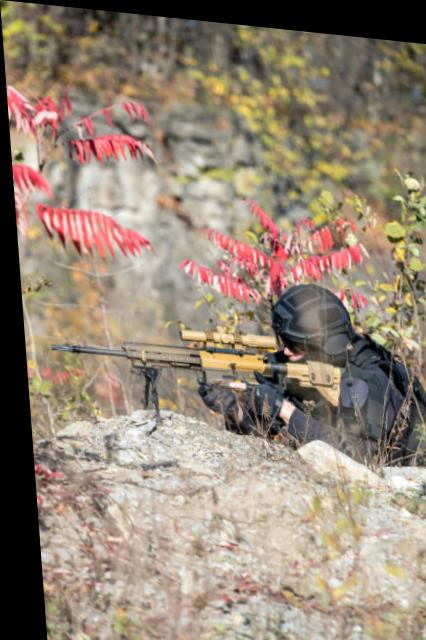other: (184, 266, 424, 448)
